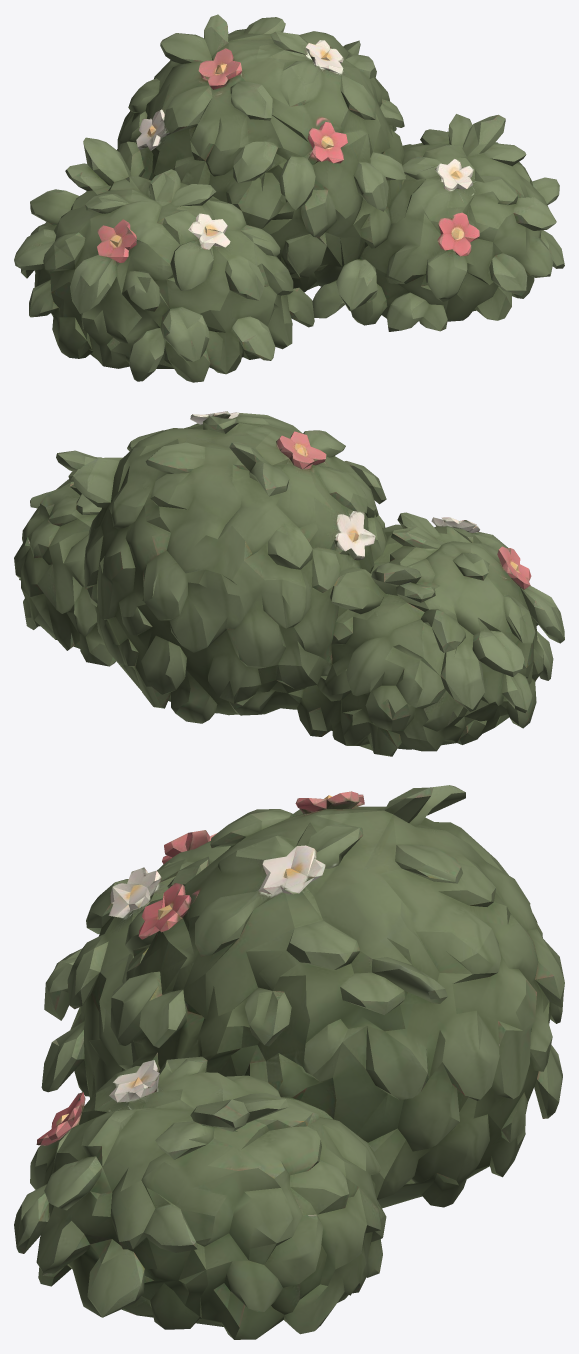
File: shrub.glb
3 renders of one model, top to bottom at view 1: azimuth 30°, elevation 25°; view 2: azimuth 150°, elevation 25°; view 3: azimuth 270°, elevation 25°, orthographic. The views are drawn at different scales.
Visible parts, largest first — view 1: Mesh_0; view 2: Mesh_0; view 3: Mesh_0.
Part boxes in pixels (bbox=[...]): Mesh_0: bbox=[14, 14, 564, 382]; Mesh_0: bbox=[14, 411, 564, 756]; Mesh_0: bbox=[14, 785, 564, 1339].
Bounding box in the file's own units: 1.02 × 0.495 × 0.6499.
Materials: 1 (1 with a texture image).
